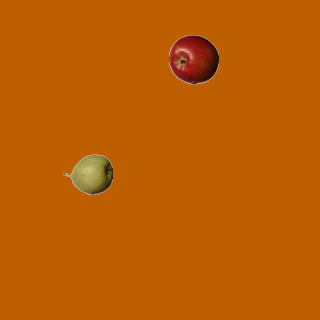Apple Braeburn: (168, 34, 218, 84)
Pear: (62, 149, 112, 199)
